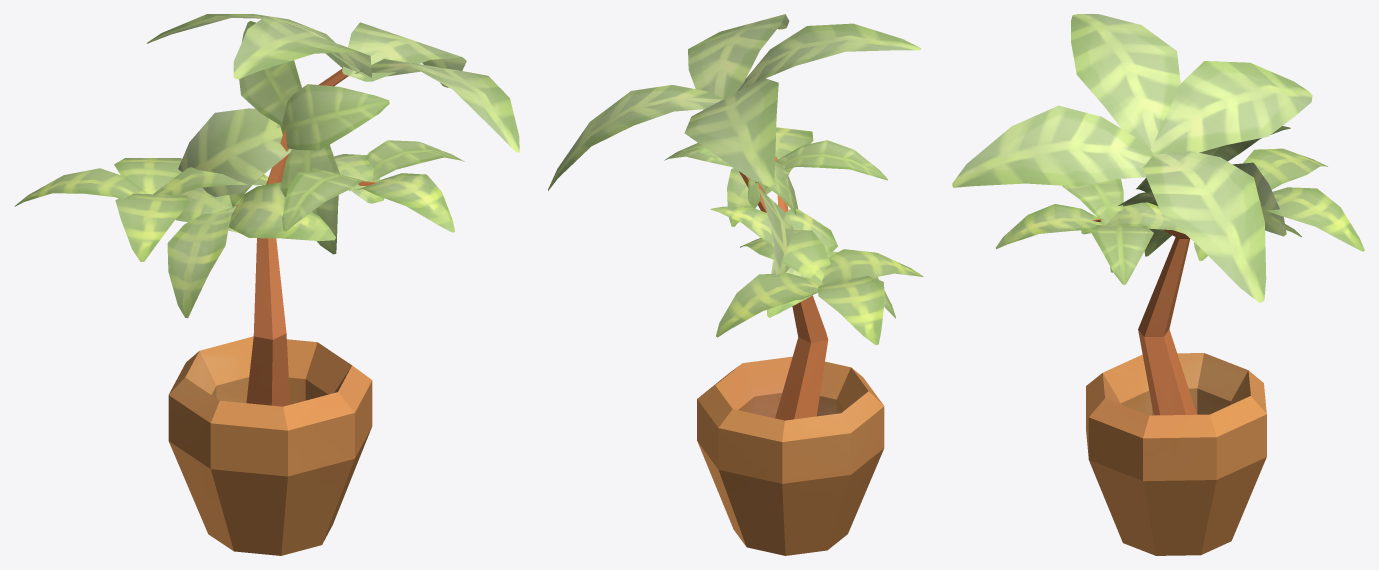
The model's file is FleurB.glb.
3 renders of one model, left to right at view 1: azimuth 30°, elevation 25°; view 2: azimuth 150°, elevation 25°; view 3: azimuth 270°, elevation 25°, orthographic. The views are drawn at different scales.
Parts seen in each view (by area): view 1: FleurB.001; view 2: FleurB.001; view 3: FleurB.001.
Part boxes in pixels (x1=…): FleurB.001: x1=14, y1=14, x2=519, y2=555; FleurB.001: x1=548, y1=14, x2=923, y2=555; FleurB.001: x1=952, y1=14, x2=1364, y2=555.
Size of the model in its own units: 0.7311 by 0.9184 by 0.7033.
Materials: 1 (1 with a texture image).
